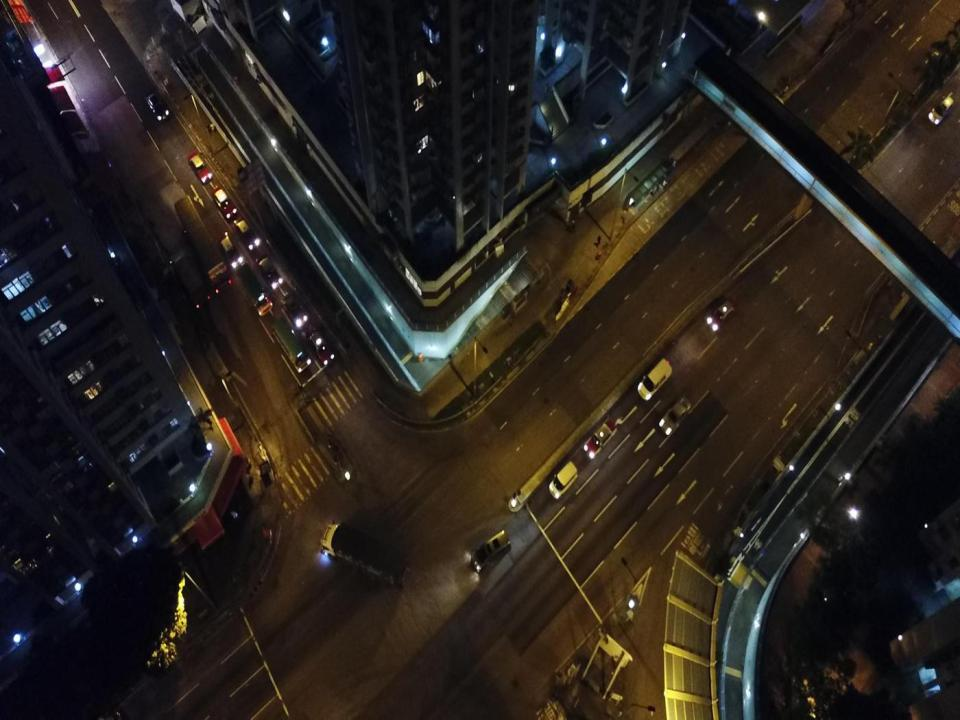bus: (272, 317, 312, 374), (236, 261, 273, 316)
car: (470, 528, 512, 573), (637, 357, 673, 401), (583, 416, 618, 459), (658, 396, 691, 436), (549, 459, 578, 500), (706, 296, 739, 332), (306, 326, 335, 366), (255, 253, 283, 290), (231, 215, 260, 250), (282, 293, 310, 328), (212, 186, 238, 220), (187, 150, 213, 184), (927, 95, 955, 126), (144, 90, 169, 122), (220, 235, 244, 268)
truck: (320, 519, 412, 591), (174, 194, 232, 295), (168, 246, 211, 310)
